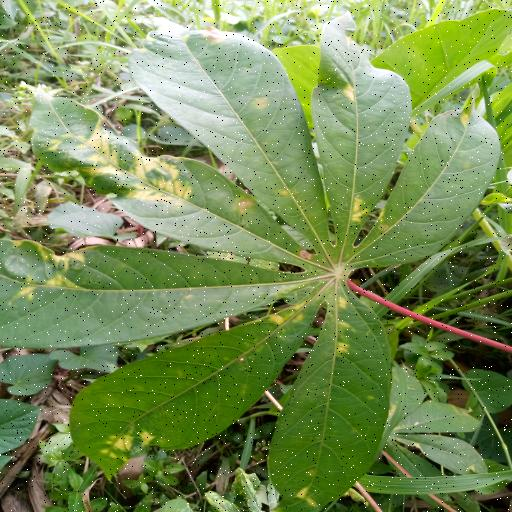Cassava_Mosaic: (0, 17, 501, 512)
